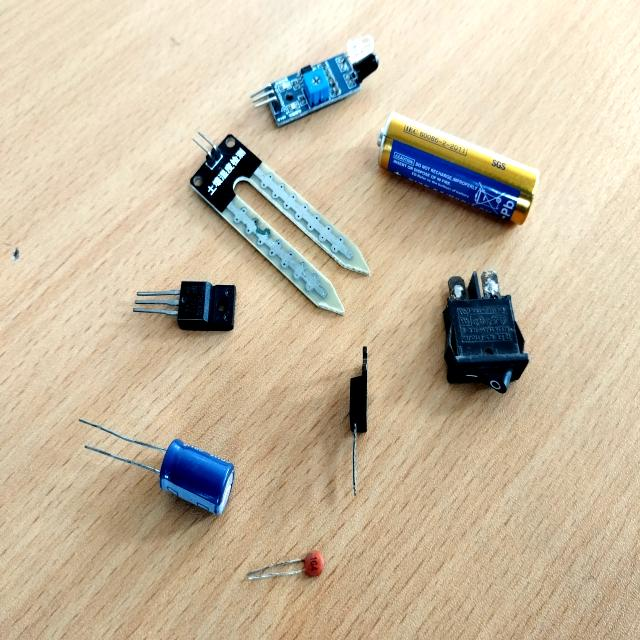capacitor: (142, 442, 235, 529), (259, 550, 324, 578)
